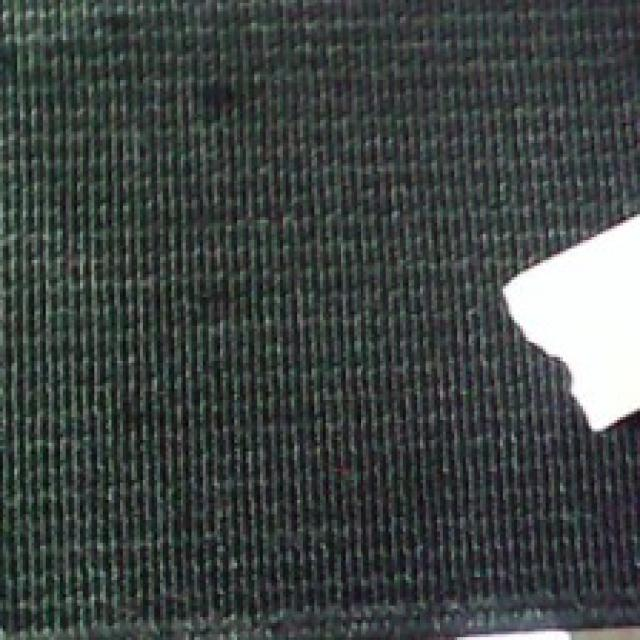defected: (497, 212, 640, 440)
